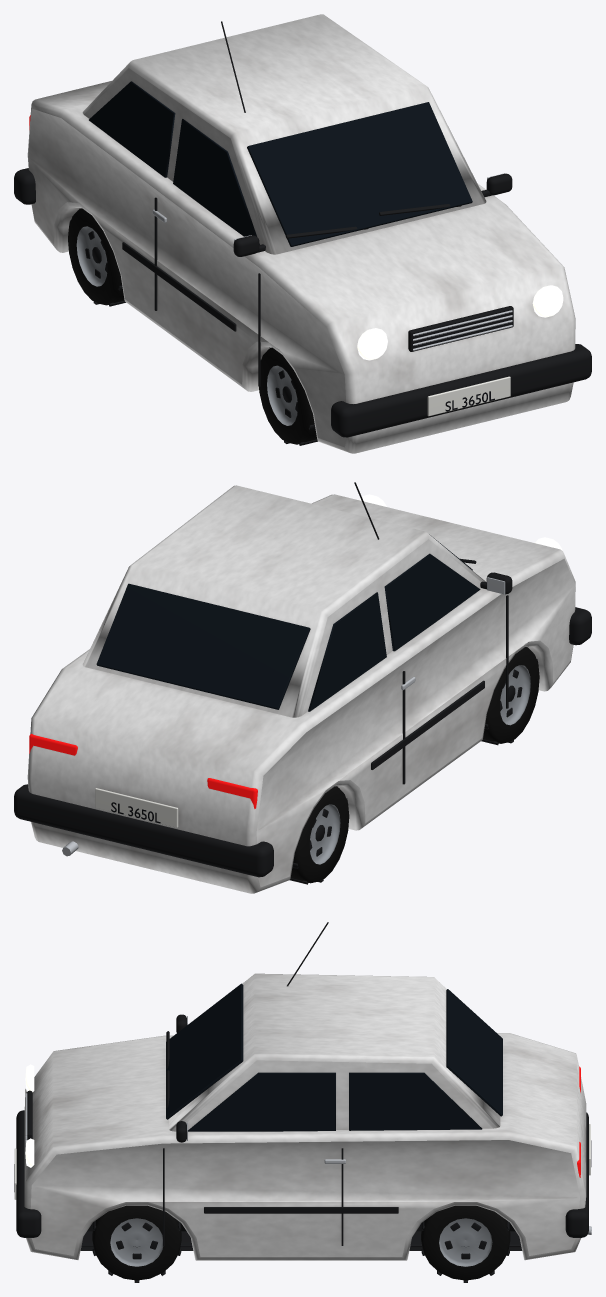
File: auto_maluch.glb
3 renders of one model, top to bottom at view 1: azimuth 30°, elevation 25°; view 2: azimuth 150°, elevation 25°; view 3: azimuth 270°, elevation 25°, orthographic. The views are drawn at different scales.
Visible parts, largest first — view 1: TintKaroseria, Detale, Kolo1, Kolo3, Reflektor.001, Reflektor; view 2: TintKaroseria, Detale, Kolo3, Kolo1, LampaTyl, LampaTyl.001; view 3: TintKaroseria, Detale, Kolo4, Kolo2.
Boxes of the visible parts, x1,y1,x2,y2 form: TintKaroseria: [27, 14, 575, 453]; Detale: [14, 21, 591, 437]; Kolo1: [259, 347, 317, 445]; Kolo3: [68, 208, 125, 306]; Reflektor.001: [532, 285, 563, 317]; Reflektor: [357, 328, 387, 360]; TintKaroseria: [27, 485, 575, 893]; Detale: [14, 482, 591, 877]; Kolo3: [289, 786, 349, 884]; Kolo1: [481, 646, 539, 745]; LampaTyl: [207, 778, 257, 808]; LampaTyl.001: [29, 733, 77, 755]; TintKaroseria: [24, 973, 586, 1260]; Detale: [14, 922, 591, 1250]; Kolo4: [421, 1205, 510, 1282]; Kolo2: [92, 1205, 181, 1282].
Bounding box in the file's own units: 1.54 × 1.76 × 3.24.
12 materials, 1 textured.
